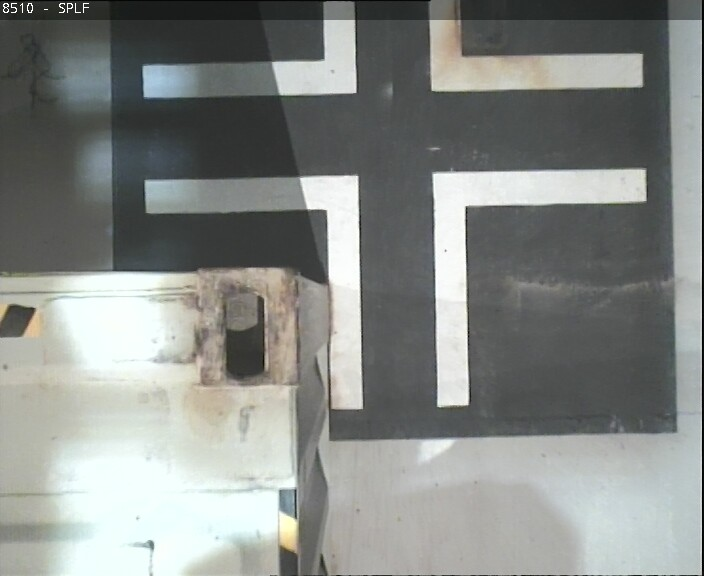groundmarker_1: (143, 163, 647, 404)
